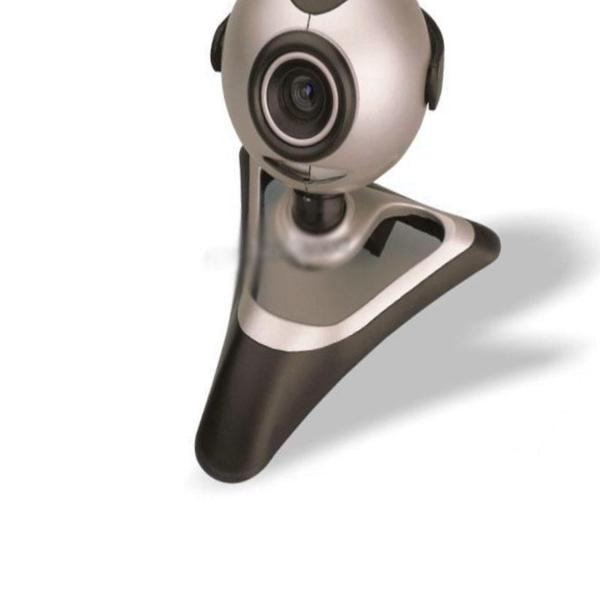webcam: (190, 1, 456, 218)
